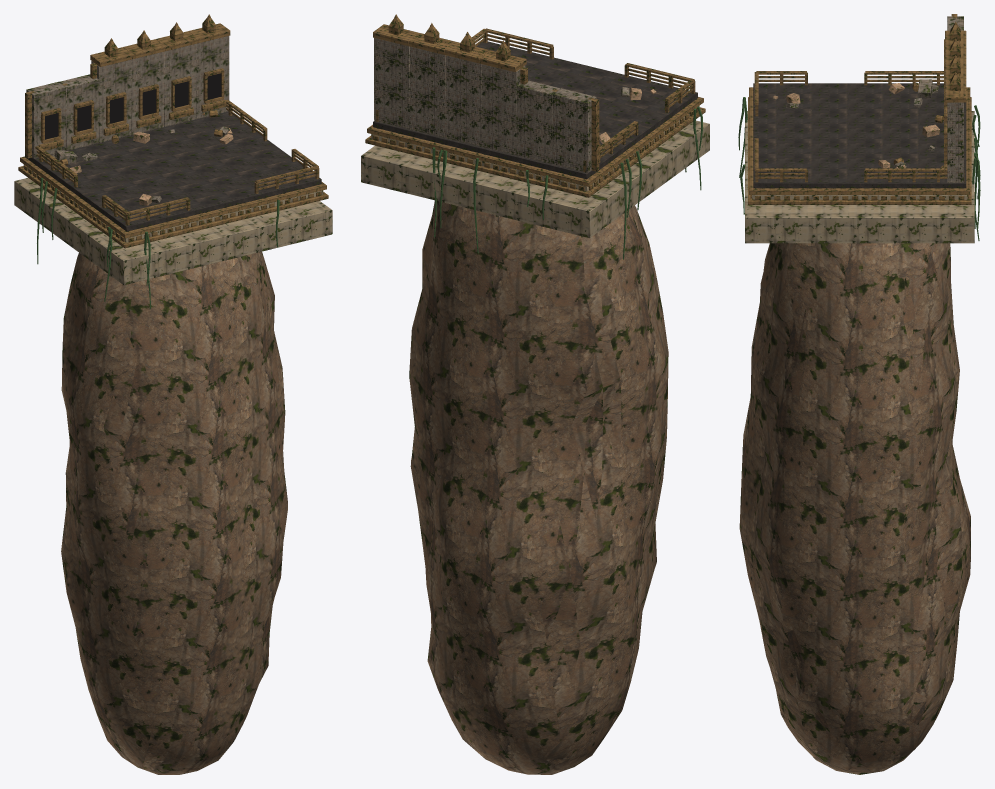
The model's file is Room_Shrine.fbx.
3 renders of one model, left to right at view 1: azimuth 30°, elevation 25°; view 2: azimuth 150°, elevation 25°; view 3: azimuth 270°, elevation 25°, orthographic. The views are drawn at different scales.
Visible parts, largest first — view 1: Shrine_Rock_LOD0, Shrine_Structure_LOD0; view 2: Shrine_Rock_LOD0, Shrine_Structure_LOD0; view 3: Shrine_Rock_LOD0, Shrine_Structure_LOD0.
Boxes of the visible parts, bbox=[...] form: Shrine_Rock_LOD0: bbox=[61, 251, 287, 774]; Shrine_Structure_LOD0: bbox=[14, 14, 332, 308]; Shrine_Rock_LOD0: bbox=[409, 201, 668, 774]; Shrine_Structure_LOD0: bbox=[361, 14, 709, 259]; Shrine_Rock_LOD0: bbox=[739, 243, 970, 774]; Shrine_Structure_LOD0: bbox=[738, 14, 980, 243].
Size of what is drawn, in the model's own units: 21.98 by 68.64 by 20.45.
